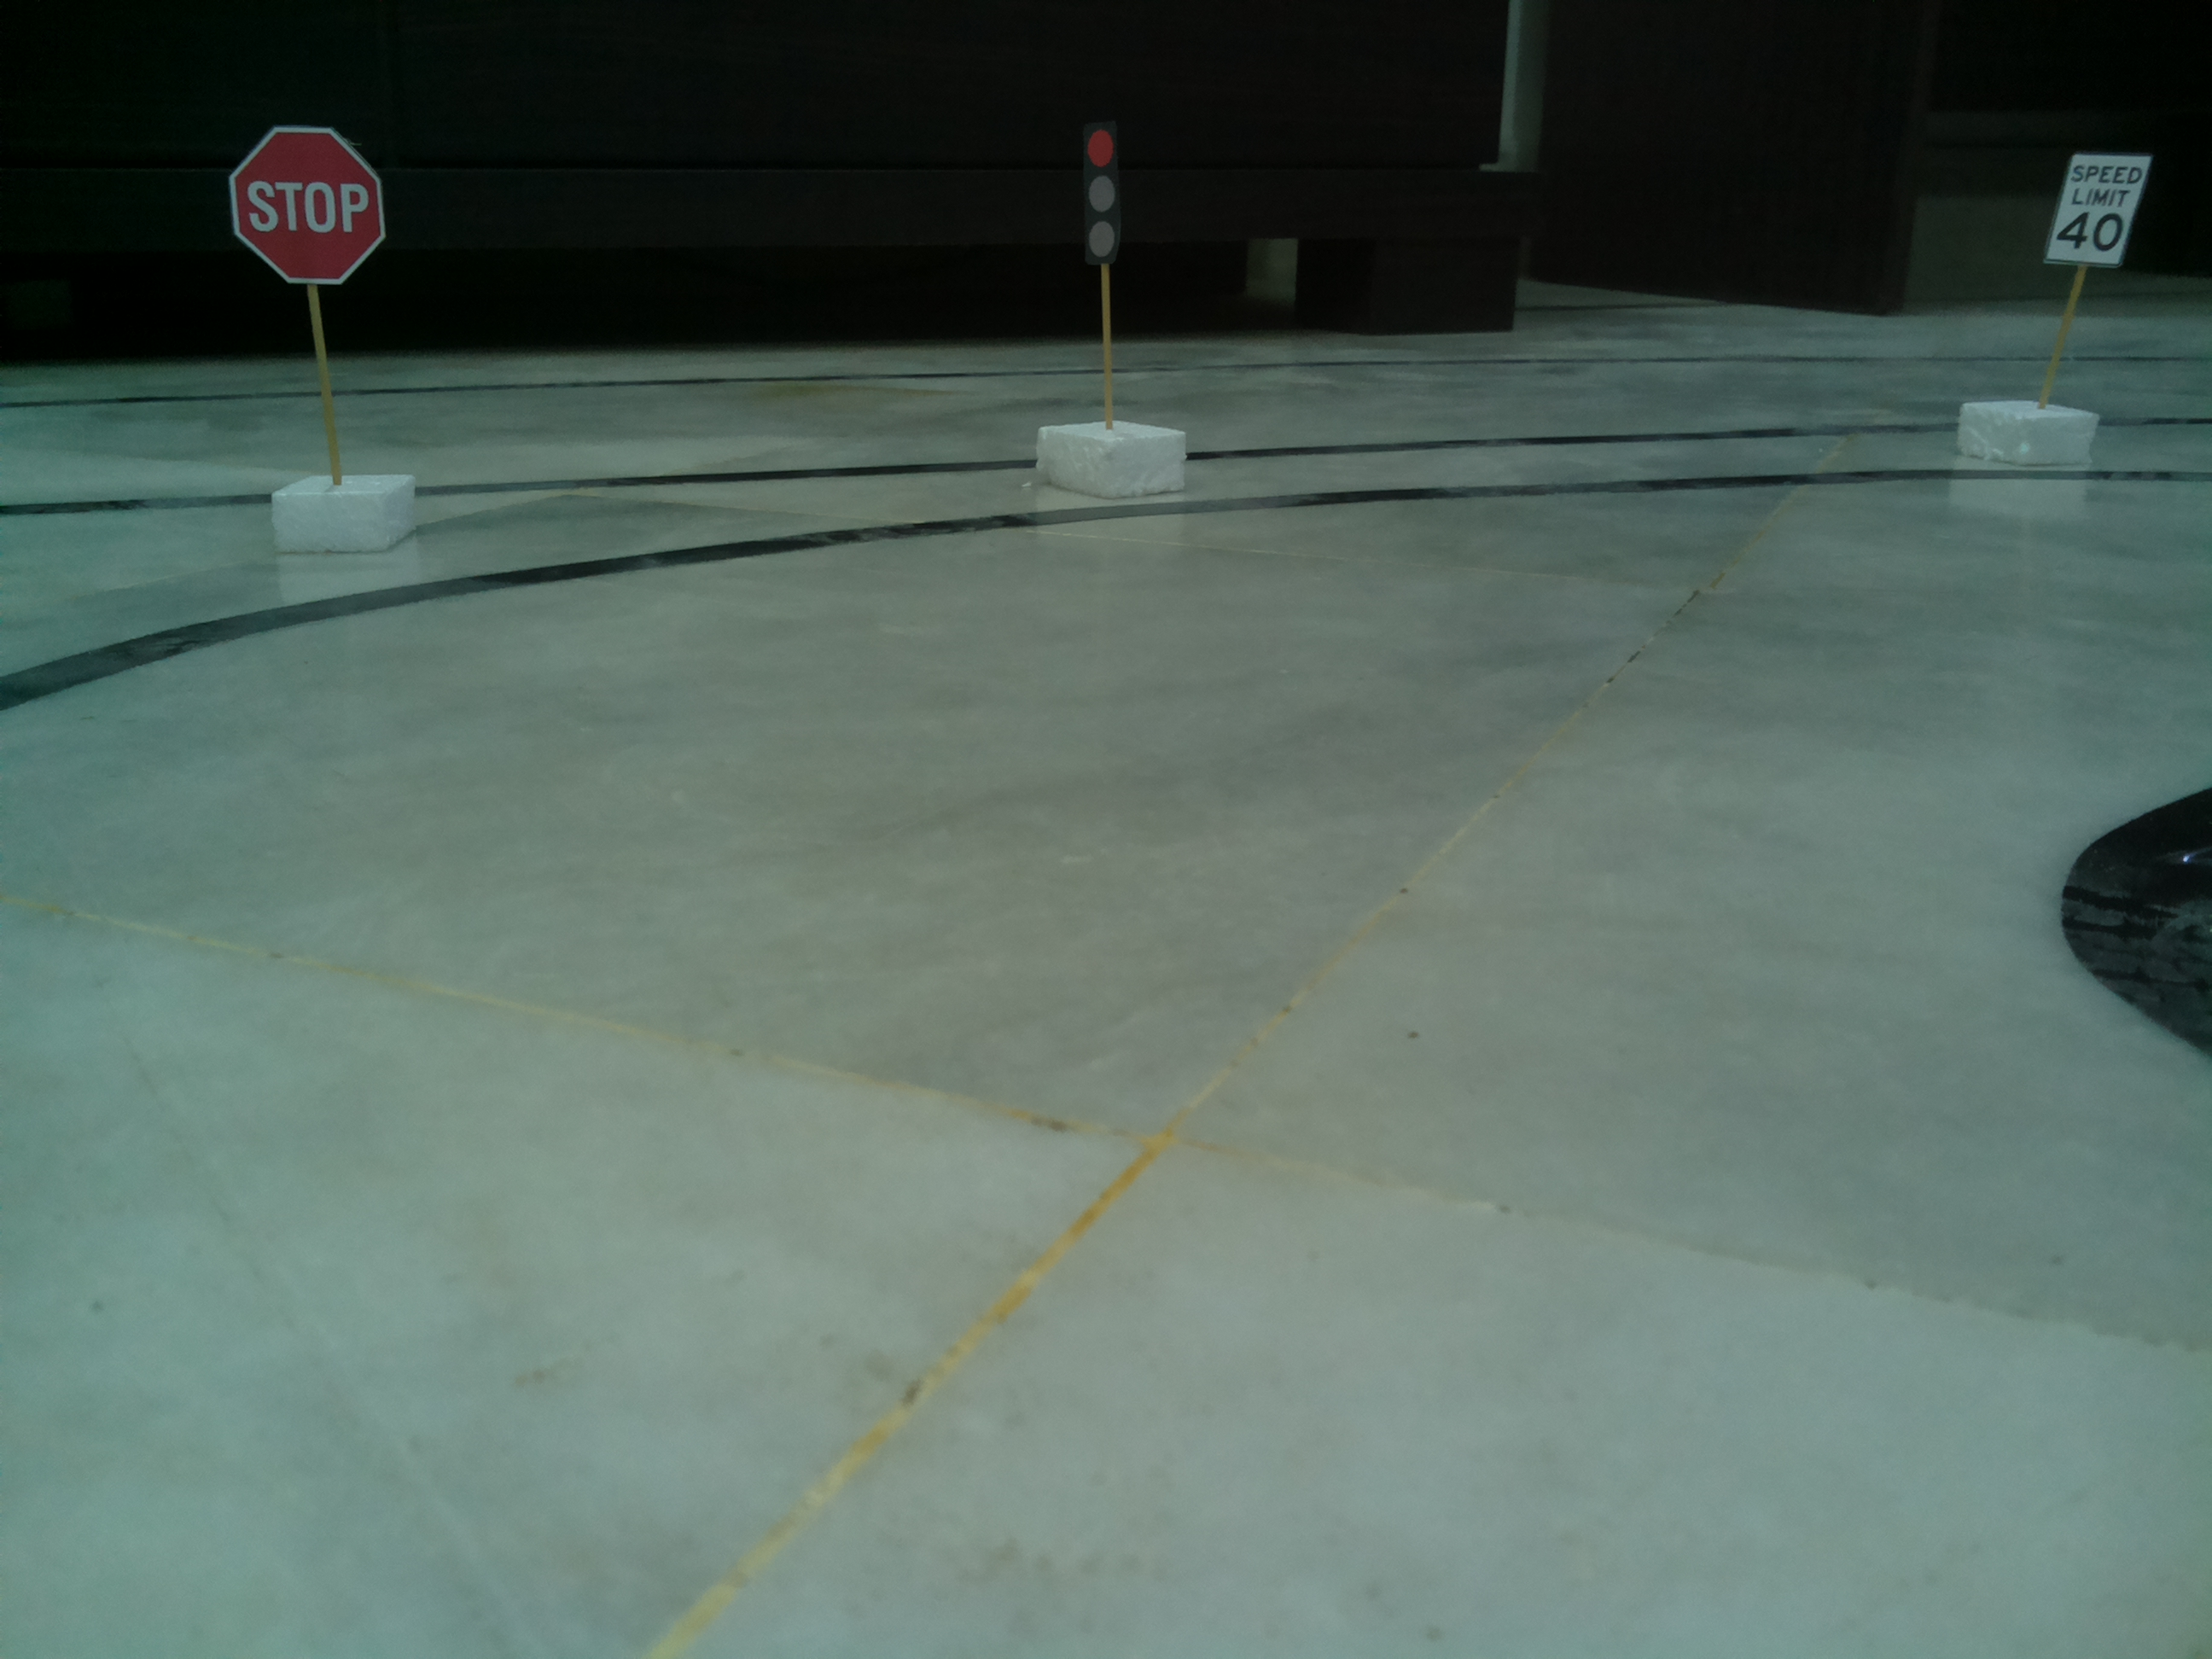Red traffic light: (1064, 118, 1144, 272)
Speed limit 40: (2041, 145, 2160, 284)
Stop sign: (223, 120, 401, 289)
